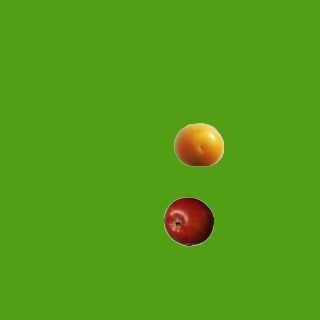Apple Braeburn: (163, 196, 213, 246)
Cherry Wax Yellow: (173, 119, 223, 169)
